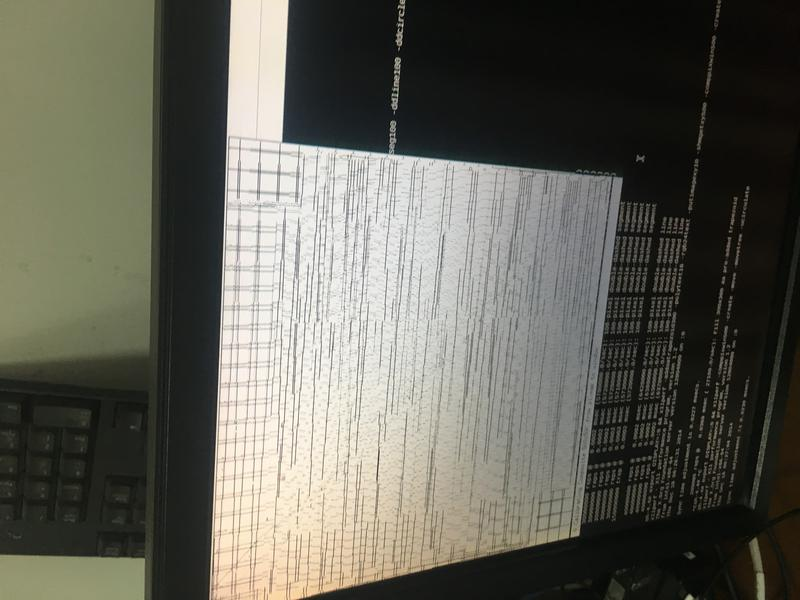xrandr_pass: (160, 116, 644, 600)
